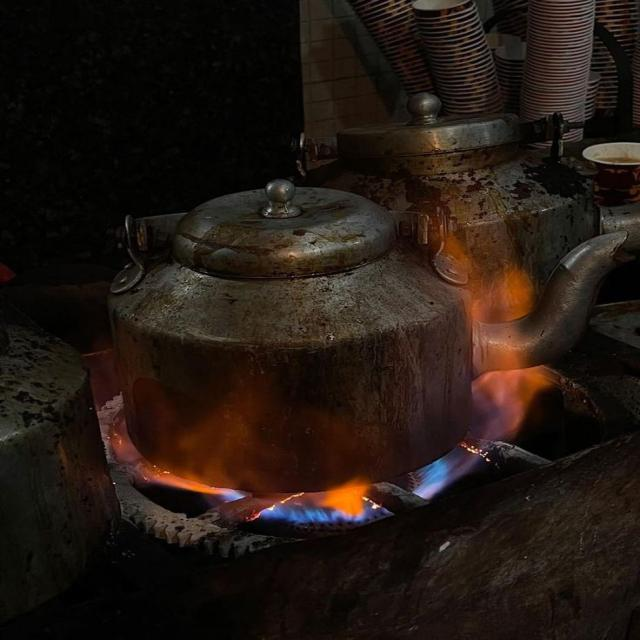fire: (87, 329, 375, 522), (420, 215, 560, 416), (372, 415, 504, 521)
